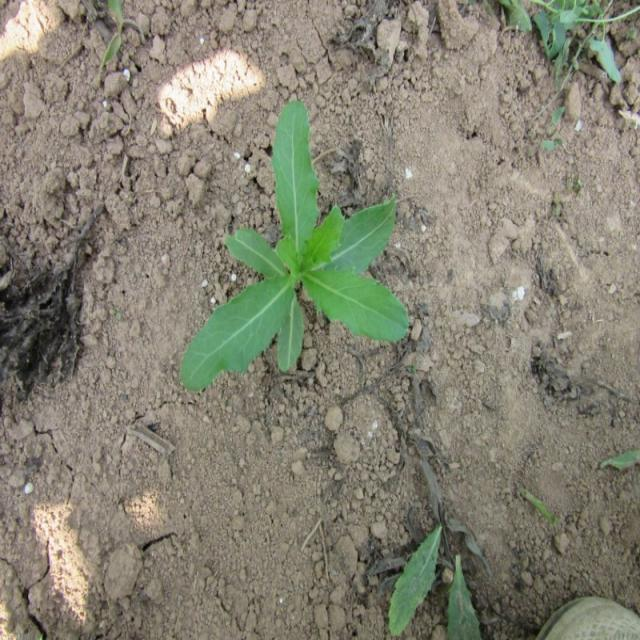cs: (177, 91, 417, 401)
